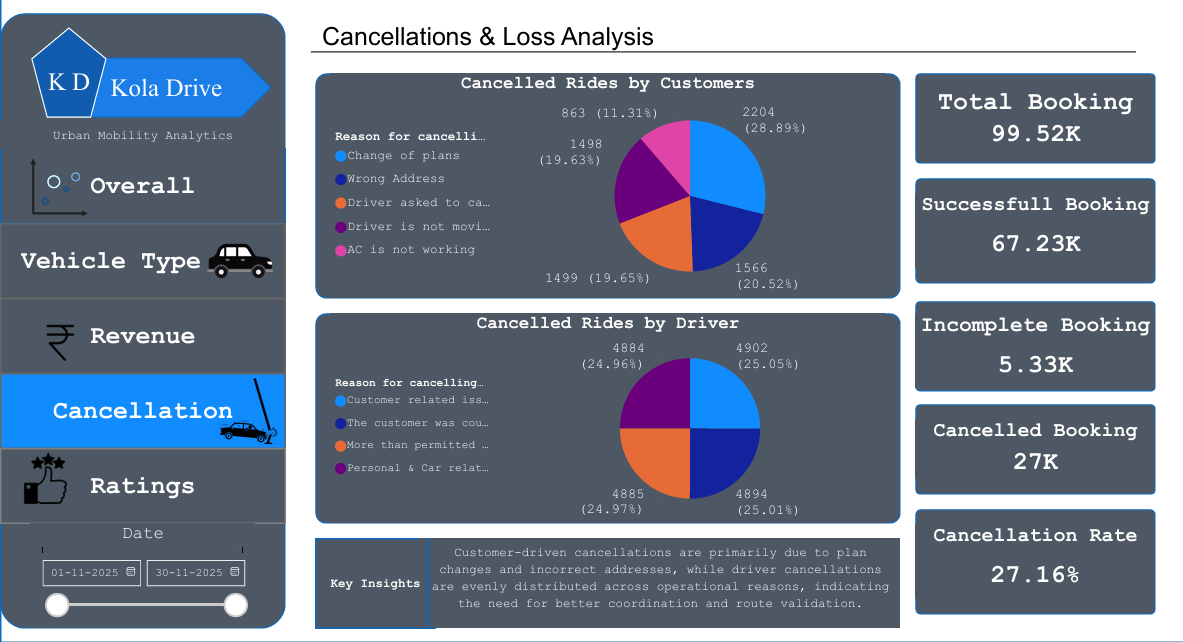

Layout of this report page (visuals, bound fields, positions):
{"tool":"powerbi","page":{"name":"Cancellation ","canvas":[1280,720],"ordinal":4},"visuals":[{"type":"shape","box":[0,0,1280,720],"z":0},{"type":"shape","box":[0,16,1264,688],"z":1000},{"type":"shape","box":[0,32,304,656],"z":2000},{"type":"shape","box":[96.9,78.9,192,64],"z":3000},{"type":"shape","box":[32.9,46.9,80,96],"z":4000},{"type":"shape","box":[0,176,304,80],"z":5000},{"type":"shape","box":[0.5,146.4,304,32],"z":6000},{"type":"shape","box":[0,256,304,80],"z":7000},{"type":"shape","box":[0,336,304,80],"z":8000},{"type":"shape","box":[0,416,304,80],"z":9000},{"type":"shape","box":[0,496,304,80],"z":10000},{"type":"image","box":[0,496,96,64],"z":11000},{"type":"image","box":[224,416,80,80],"z":12000},{"type":"image","box":[32,352,64,64],"z":13000},{"type":"image","box":[208,256,96,80],"z":14000},{"type":"image","box":[16,176,96,80],"z":15000},{"type":"shape","box":[330.9,56.6,880,32],"z":16000},{"type":"shape","box":[330.9,40.6,880,32],"z":17000},{"type":"slicer","title":"Date","fields":{"Values":["ola_bookings.Date"]},"box":[32,576,240,112],"z":18000},{"type":"shape","box":[330.9,88.6,624,288],"z":19000},{"type":"shape","box":[330.9,392.6,624,288],"z":20000},{"type":"shape","box":[970.9,88.6,256,144],"z":21000},{"type":"shape","box":[970.9,552.6,256,128],"z":22000},{"type":"shape","box":[970.9,392.6,256,144],"z":23000},{"type":"shape","box":[970.9,248.6,256,128],"z":24000},{"type":"donutChart","title":"Cancelled Rides by Customers","fields":{"Y":["CountNonNull(ola_bookings.Cancelled_Rides_by_Customer)"],"Category":["ola_bookings.Reason_for_cancelling_by_Customer"]},"box":[346.9,88.6,592,288],"z":25000},{"type":"donutChart","title":"Cancelled Rides by Driver","fields":{"Y":["Sum(ola_bookings.Cancelled_Rides_by_Driver)"],"Category":["ola_bookings.Driver_Cancel_Reason"]},"box":[346.9,392.6,592,288],"z":26000},{"type":"card","title":"Total Booking","fields":{"Values":["Count(ola_bookings.Booking_ID)"]},"box":[986.9,104.6,224,112],"z":27000},{"type":"card","title":"Successfull Booking","fields":{"Values":["Count(ola_bookings.Booking_ID)"]},"box":[970.9,264.6,256,96],"z":28000},{"type":"card","title":"Cancelled Booking","fields":{"Values":["Kola_bookings.Cancelled_Booking"]},"box":[970.9,424.6,256,80],"z":29000},{"type":"card","title":"Cancellation Rate","fields":{"Values":["Kola_bookings.Cancellation Rate"]},"box":[970.9,584.6,256,80],"z":30000}]}

Visuals, with their boxes on the page's 1280x720 design canvas (x1, y1, x2, y2). These are canvas units, not pixel positions in the 1183x642 screenshot, which may show the page scaled, cropped or inside an application window:
shape: [0,0,1280,720]
shape: [0,16,1264,704]
shape: [0,32,304,688]
shape: [97,79,289,143]
shape: [33,47,113,143]
shape: [0,176,304,256]
shape: [0,146,304,178]
shape: [0,256,304,336]
shape: [0,336,304,416]
shape: [0,416,304,496]
shape: [0,496,304,576]
image: [0,496,96,560]
image: [224,416,304,496]
image: [32,352,96,416]
image: [208,256,304,336]
image: [16,176,112,256]
shape: [331,57,1211,89]
shape: [331,41,1211,73]
"Date" slicer: [32,576,272,688]
shape: [331,89,955,377]
shape: [331,393,955,681]
shape: [971,89,1227,233]
shape: [971,553,1227,681]
shape: [971,393,1227,537]
shape: [971,249,1227,377]
"Cancelled Rides by Customers" donutChart: [347,89,939,377]
"Cancelled Rides by Driver" donutChart: [347,393,939,681]
"Total Booking" card: [987,105,1211,217]
"Successfull Booking" card: [971,265,1227,361]
"Cancelled Booking" card: [971,425,1227,505]
"Cancellation Rate" card: [971,585,1227,665]
